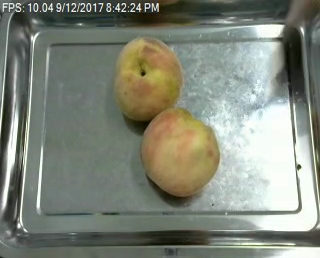Peach: (140, 106, 221, 196), (114, 34, 183, 121)
